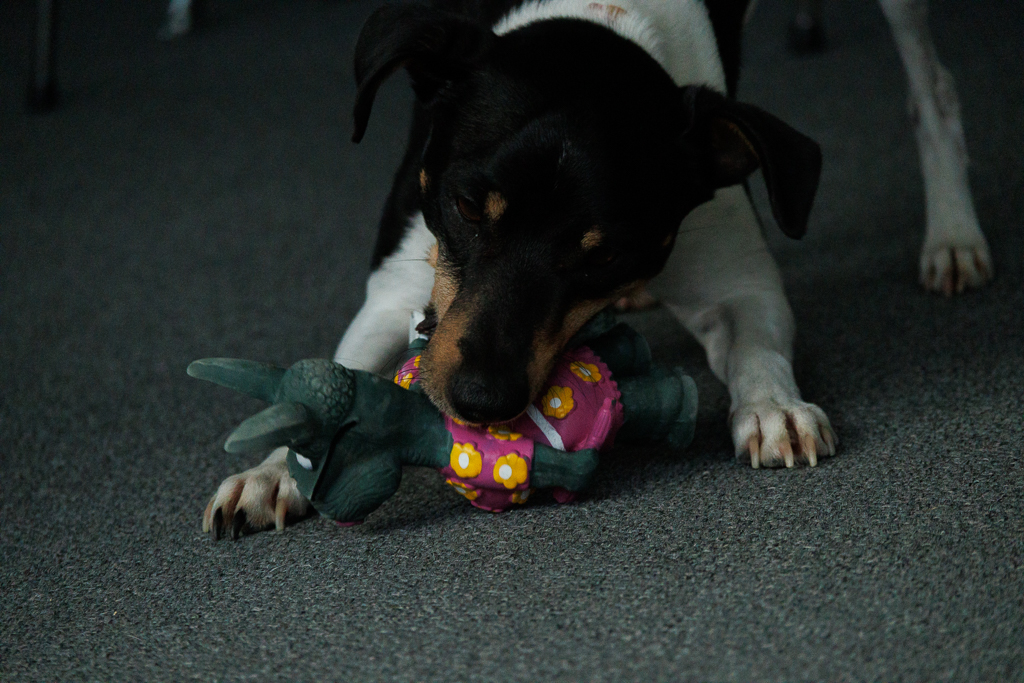Dog: (179, 0, 1008, 571)
Humanoid: (181, 285, 745, 534)
